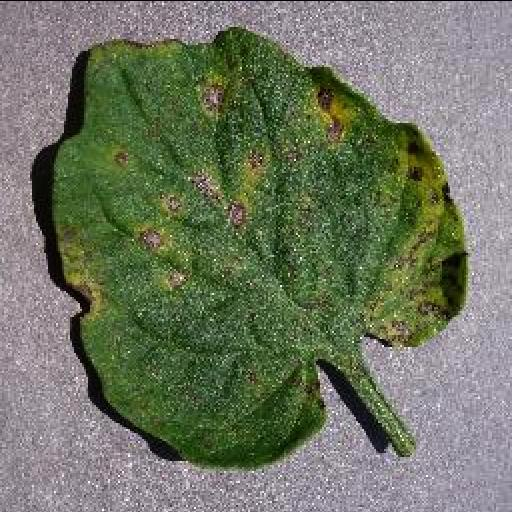disease_tomato: (46, 26, 470, 470)
